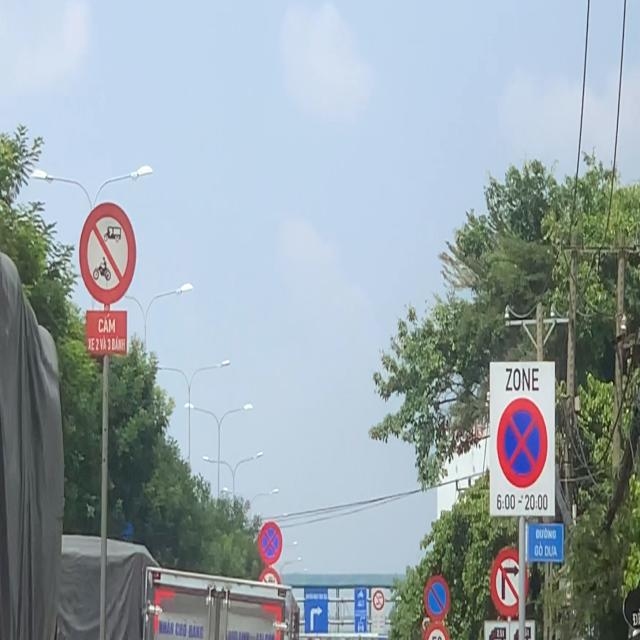Cam con lai: (78, 198, 136, 306), (372, 589, 385, 612)
Cam do: (423, 575, 450, 621)
Cam dung va do: (496, 396, 549, 490), (258, 521, 284, 566)
Cam re phai: (490, 543, 528, 619)
Toc do toi da: (423, 622, 449, 640)
